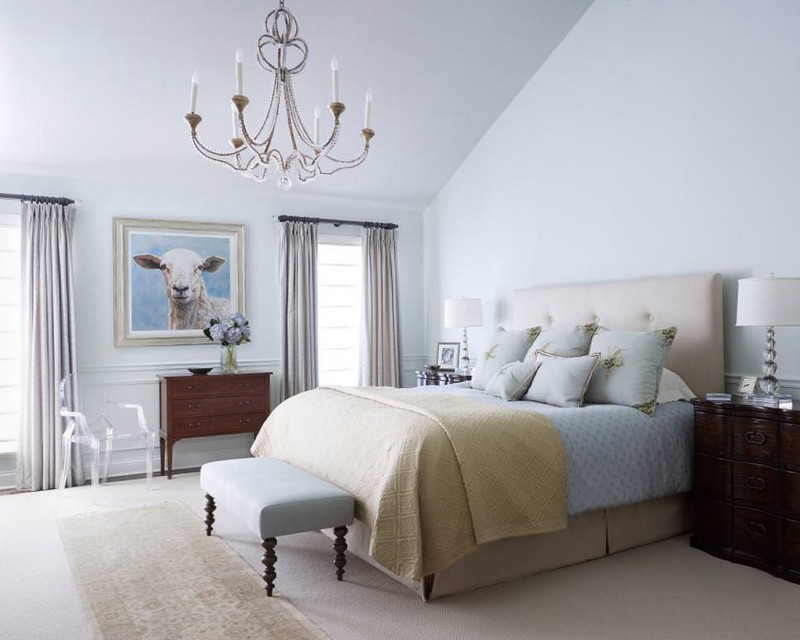bed: (260, 271, 724, 605)
lamp: (737, 275, 800, 405), (444, 294, 484, 383)
stool: (152, 364, 272, 483)
